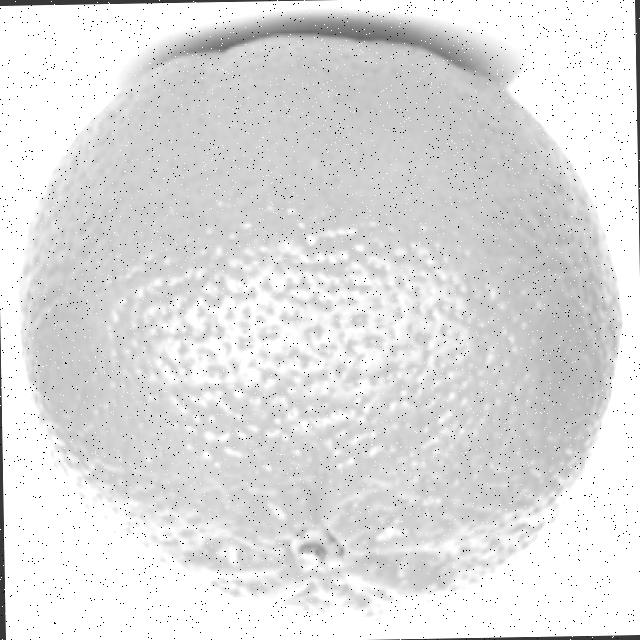orange: (8, 24, 632, 632)
